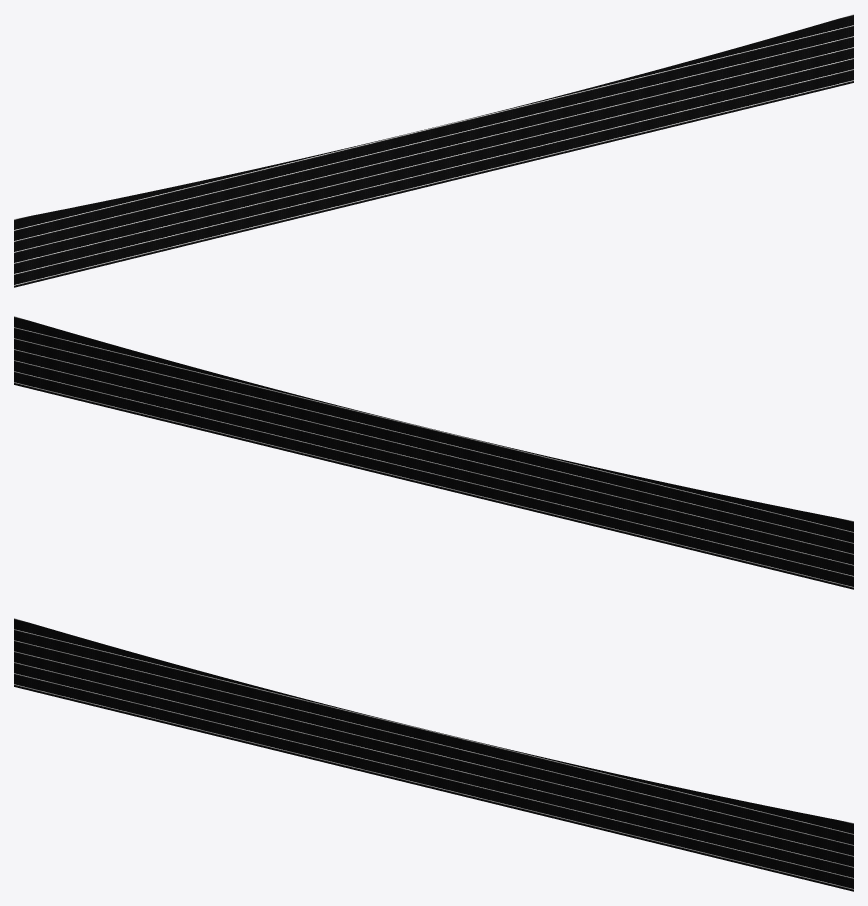
The model's file is Red.obj.
3 renders of one model, top to bottom at view 1: azimuth 30°, elevation 25°; view 2: azimuth 150°, elevation 25°; view 3: azimuth 330°, elevation 25°, orthographic.
Parts seen in each view (by area): view 1: Red; view 2: Red; view 3: Red.
Boxes of the visible parts, left/top/right/bottom form: Red: left=14, top=14, right=853, bottom=287; Red: left=14, top=316, right=853, bottom=589; Red: left=14, top=618, right=853, bottom=891.
Bounding box in the file's own units: 12.8 × 1 × 0.
1 material, 1 textured.
